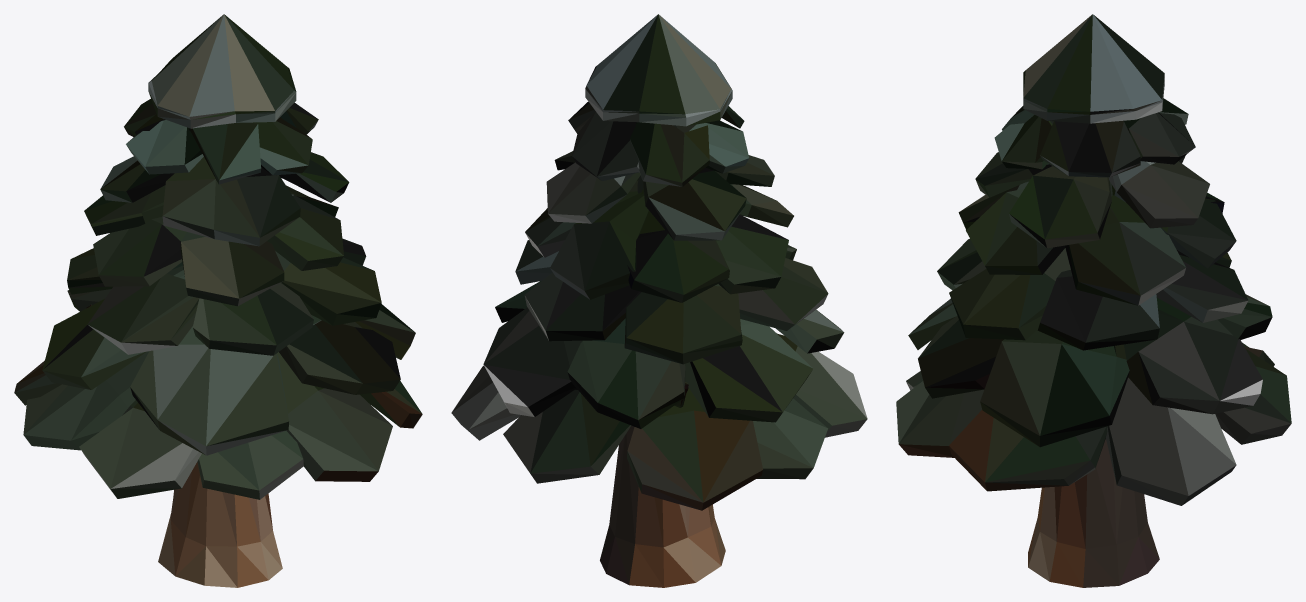
Rendered from Tree_Pine.glb.
The picture shows the model from 3 angles, left to right: view 1: azimuth 30°, elevation 25°; view 2: azimuth 150°, elevation 25°; view 3: azimuth 270°, elevation 25°; orthographic projection.
Parts seen in each view (by area): view 1: world; view 2: world; view 3: world.
Boxes of the visible parts, bbox=[...] form: world: bbox=[14, 14, 422, 587]; world: bbox=[451, 14, 867, 587]; world: bbox=[896, 14, 1291, 587].
Size of the model in its own units: 0.3242 by 0.4941 by 0.3223.
